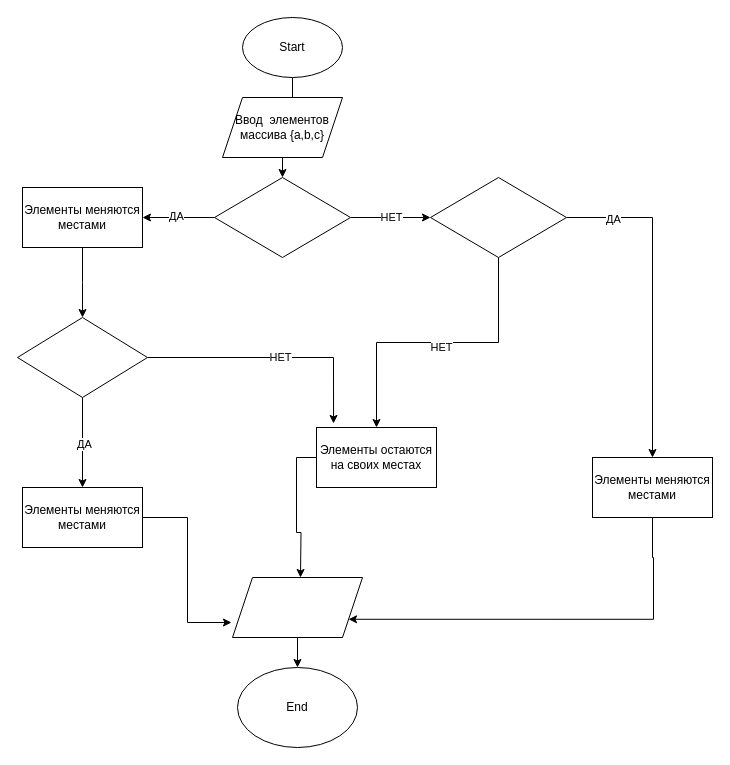
Some shapes in this 730 by 765 pixel diagram are drawn without their labels. The shapes that lost their labels are listed below. From the top down, each one's centre as x and y in pixels, then its label:
At point 282,217: "а > b".
At point 498,217: "b > c".
At point 82,357: "а > c".
At point 297,607: "Вывести элементы массива".
